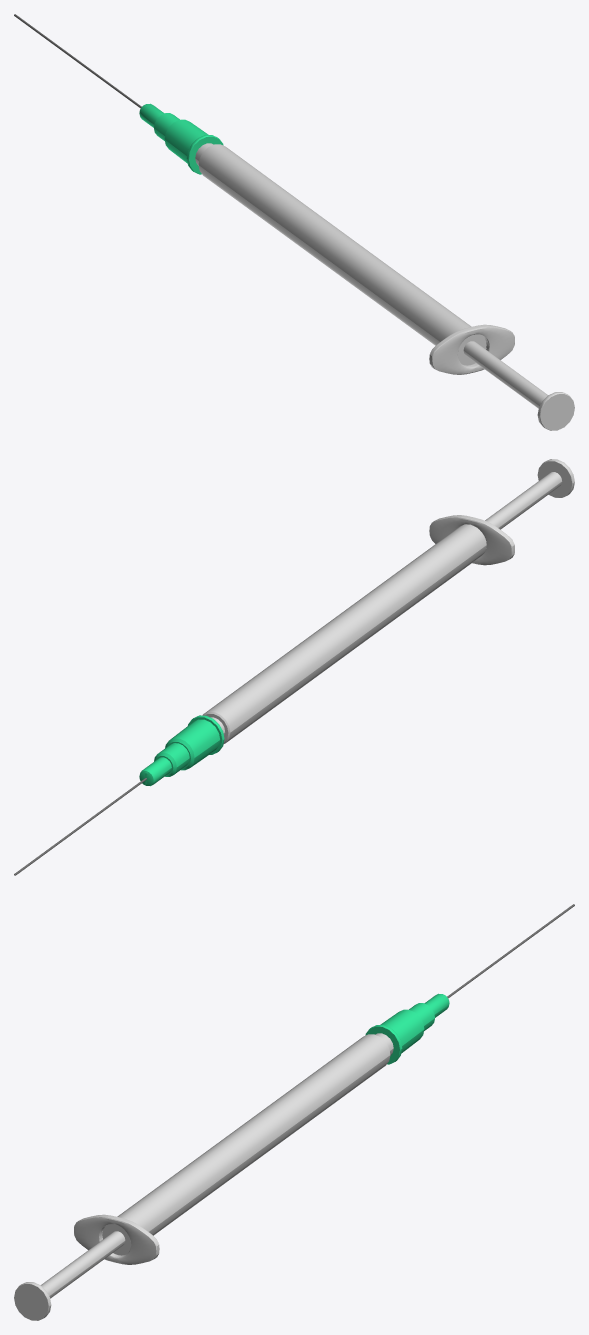
File: Syringe.fbx
3 renders of one model, top to bottom at view 1: azimuth 30°, elevation 25°; view 2: azimuth 150°, elevation 25°; view 3: azimuth 330°, elevation 25°, orthographic.
Visible parts, largest first — view 1: Syringe; view 2: Syringe; view 3: Syringe.
Part boxes in pixels (x1,y1,x2,y2): Syringe: (14,14,574,430); Syringe: (14,459,574,875); Syringe: (14,904,574,1320).
Size of the model in its own units: 34.22 by 17.04 by 386.
